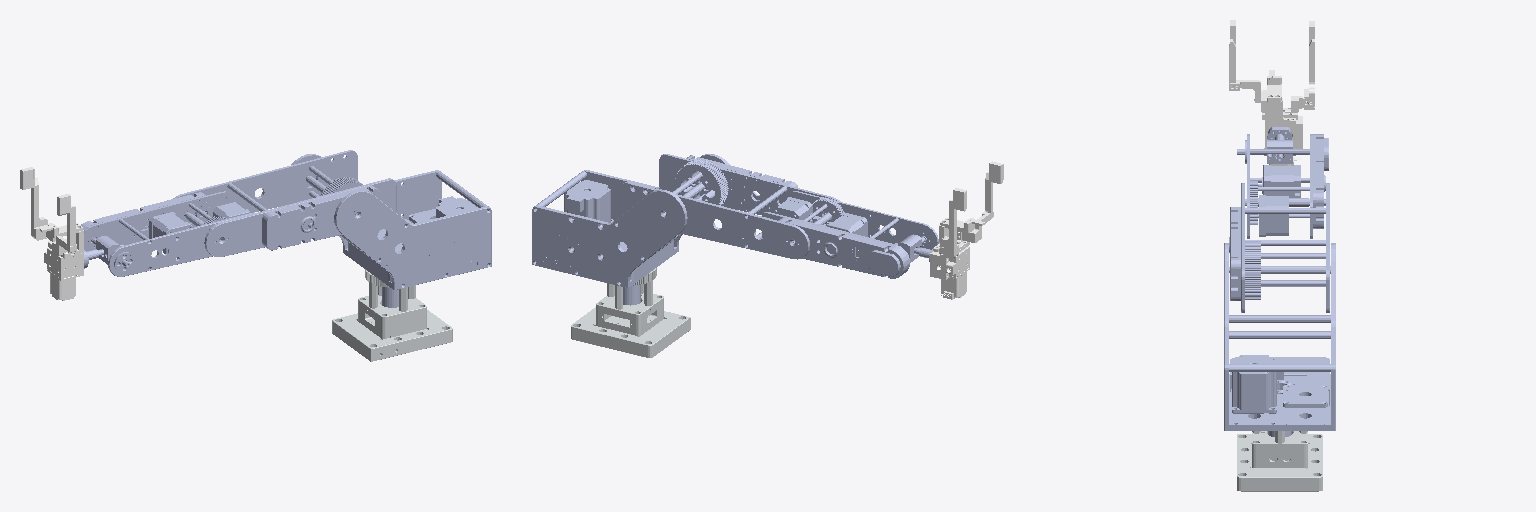
robot.urdf — dorna2-rebuild:
<?xml version="1.0" encoding="utf-8"?>
<!-- This URDF was automatically created by SolidWorks to URDF Exporter! Originally created by [author] ([email redacted]) 
     Commit Version: 1.6.0-4-g7f85cfe  Build Version: 1.6.7995.38578
     For more information, please see http://wiki.ros.org/sw_urdf_exporter -->
<robot
  name="dorna2-rebuild">
  <link
    name="arm_base">
    <inertial>
      <origin
        xyz="0.01303 -0.0011498 -0.037465"
        rpy="0 0 0" />
      <mass
        value="0.72268" />
      <inertia
        ixx="0.00075751"
        ixy="1.7307E-06"
        ixz="3.1352E-07"
        iyy="0.0010077"
        iyz="-3.2751E-07"
        izz="0.0017096" />
    </inertial>
    <visual>
      <origin
        xyz="0 0 0"
        rpy="0 0 0" />
      <geometry>
        <mesh
          filename="package://dorna2-rebuild/meshes/arm_base.STL" />
      </geometry>
      <material
        name="">
        <color
          rgba="0.89804 0.91765 0.92941 1" />
      </material>
    </visual>
    <collision>
      <origin
        xyz="0 0 0"
        rpy="0 0 0" />
      <geometry>
        <mesh
          filename="package://dorna2-rebuild/meshes/arm_base.STL" />
      </geometry>
    </collision>
  </link>
  <link
    name="arm1">
    <inertial>
      <origin
        xyz="0.0068555 0.0936 -0.031936"
        rpy="0 0 0" />
      <mass
        value="0.67527" />
      <inertia
        ixx="0.0020205"
        ixy="2.1595E-06"
        ixz="-1.2854E-05"
        iyy="0.0019142"
        iyz="-0.00044896"
        izz="0.00084524" />
    </inertial>
    <visual>
      <origin
        xyz="0 0 0"
        rpy="0 0 0" />
      <geometry>
        <mesh
          filename="package://dorna2-rebuild/meshes/arm1.STL" />
      </geometry>
      <material
        name="">
        <color
          rgba="0.79216 0.81961 0.93333 1" />
      </material>
    </visual>
    <collision>
      <origin
        xyz="0 0 0"
        rpy="0 0 0" />
      <geometry>
        <mesh
          filename="package://dorna2-rebuild/meshes/arm1.STL" />
      </geometry>
    </collision>
  </link>
  <joint
    name="arm1j"
    type="revolute">
    <origin
      xyz="0.012824 -0.0009058 0"
      rpy="1.5708 0 -1.5708" />
    <parent
      link="arm_base" />
    <child
      link="arm1" />
    <axis
      xyz="0 1 0" />
    <limit
      lower="-175"
      upper="180"
      effort="0"
      velocity="0" />
  </joint>
  <link
    name="arm2">
    <inertial>
      <origin
        xyz="0.010255 0.050968 -6.2717E-06"
        rpy="0 0 0" />
      <mass
        value="0.27168" />
      <inertia
        ixx="0.0013356"
        ixy="-1.0161E-08"
        ixz="1.0593E-11"
        iyy="0.00010987"
        iyz="-8.7967E-09"
        izz="0.0012912" />
    </inertial>
    <visual>
      <origin
        xyz="0 0 0"
        rpy="0 0 0" />
      <geometry>
        <mesh
          filename="package://dorna2-rebuild/meshes/arm2.STL" />
      </geometry>
      <material
        name="">
        <color
          rgba="0.79216 0.81961 0.93333 1" />
      </material>
    </visual>
    <collision>
      <origin
        xyz="0 0 0"
        rpy="0 0 0" />
      <geometry>
        <mesh
          filename="package://dorna2-rebuild/meshes/arm2.STL" />
      </geometry>
    </collision>
  </link>
  <joint
    name="arm2j"
    type="revolute">
    <origin
      xyz="-0.0009058 0.17761 0.095476"
      rpy="1.5708 0 0" />
    <parent
      link="arm1" />
    <child
      link="arm2" />
    <axis
      xyz="1 0 0" />
    <limit
      lower="-91"
      upper="181"
      effort="0"
      velocity="0" />
  </joint>
  <link
    name="arm3">
    <inertial>
      <origin
        xyz="-0.0024986 -5.1124E-06 0.03101"
        rpy="0 0 0" />
      <mass
        value="0.29344" />
      <inertia
        ixx="0.00057371"
        ixy="-3.2473E-09"
        ixz="2.2346E-06"
        iyy="0.00054217"
        iyz="3.7841E-09"
        izz="6.7363E-05" />
    </inertial>
    <visual>
      <origin
        xyz="0 0 0"
        rpy="0 0 0" />
      <geometry>
        <mesh
          filename="package://dorna2-rebuild/meshes/arm3.STL" />
      </geometry>
      <material
        name="">
        <color
          rgba="0.79216 0.81961 0.93333 1" />
      </material>
    </visual>
    <collision>
      <origin
        xyz="0 0 0"
        rpy="0 0 0" />
      <geometry>
        <mesh
          filename="package://dorna2-rebuild/meshes/arm3.STL" />
      </geometry>
    </collision>
  </link>
  <joint
    name="arm3j"
    type="revolute">
    <origin
      xyz="0 0.2032 0"
      rpy="-1.5708 0 0" />
    <parent
      link="arm2" />
    <child
      link="arm3" />
    <axis
      xyz="1 0 0" />
    <limit
      lower="-142"
      upper="142"
      effort="0"
      velocity="0" />
  </joint>
  <link
    name="wrist1">
    <inertial>
      <origin
        xyz="4.6381E-05 5.5335E-07 3.3649E-05"
        rpy="0 0 0" />
      <mass
        value="0.019467" />
      <inertia
        ixx="1.9403E-06"
        ixy="-2.605E-12"
        ixz="3.7253E-11"
        iyy="5.5184E-06"
        iyz="1.4992E-08"
        izz="6.4217E-06" />
    </inertial>
    <visual>
      <origin
        xyz="0 0 0"
        rpy="0 0 0" />
      <geometry>
        <mesh
          filename="package://dorna2-rebuild/meshes/wrist1.STL" />
      </geometry>
      <material
        name="">
        <color
          rgba="0.79216 0.81961 0.93333 1" />
      </material>
    </visual>
    <collision>
      <origin
        xyz="0 0 0"
        rpy="0 0 0" />
      <geometry>
        <mesh
          filename="package://dorna2-rebuild/meshes/wrist1.STL" />
      </geometry>
    </collision>
  </link>
  <joint
    name="wrist1j"
    type="revolute">
    <origin
      xyz="0.0010033 0 0.1524"
      rpy="0.016592 0 3.1416" />
    <parent
      link="arm3" />
    <child
      link="wrist1" />
    <axis
      xyz="1 0 0" />
    <limit
      lower="-135"
      upper="135"
      effort="0"
      velocity="0" />
  </joint>
  <link
    name="wrist2">
    <inertial>
      <origin
        xyz="1.2629E-08 0.0011325 0.03437"
        rpy="0 0 0" />
      <mass
        value="0.010769" />
      <inertia
        ixx="3.7831E-06"
        ixy="-6.8983E-13"
        ixz="-2.0905E-12"
        iyy="3.859E-06"
        iyz="-1.1375E-07"
        izz="8.956E-07" />
    </inertial>
    <visual>
      <origin
        xyz="0 0 0"
        rpy="0 0 0" />
      <geometry>
        <mesh
          filename="package://dorna2-rebuild/meshes/wrist2.STL" />
      </geometry>
      <material
        name="">
        <color
          rgba="0.79216 0.81961 0.93333 1" />
      </material>
    </visual>
    <collision>
      <origin
        xyz="0 0 0"
        rpy="0 0 0" />
      <geometry>
        <mesh
          filename="package://dorna2-rebuild/meshes/wrist2.STL" />
      </geometry>
    </collision>
  </link>
  <joint
    name="wrist2j"
    type="revolute">
    <origin
      xyz="0 0 0"
      rpy="0 0 0" />
    <parent
      link="wrist1" />
    <child
      link="wrist2" />
    <axis
      xyz="0 0.016592 0.99986" />
    <limit
      lower="-360"
      upper="360"
      effort="0"
      velocity="0" />
  </joint>
  <link
    name="gripper">
    <inertial>
      <origin
        xyz="-0.018875 0.098371 -0.44044"
        rpy="0 0 0" />
      <mass
        value="2.9259" />
      <inertia
        ixx="0.12091"
        ixy="0.00011856"
        ixz="-0.0016103"
        iyy="0.10184"
        iyz="0.027925"
        izz="0.027587" />
    </inertial>
    <visual>
      <origin
        xyz="0 0 0"
        rpy="0 0 0" />
      <geometry>
        <mesh
          filename="package://dorna2-rebuild/meshes/gripper.STL" />
      </geometry>
      <material
        name="">
        <color
          rgba="1 1 1 1" />
      </material>
    </visual>
    <collision>
      <origin
        xyz="0 0 0"
        rpy="0 0 0" />
      <geometry>
        <mesh
          filename="package://dorna2-rebuild/meshes/gripper.STL" />
      </geometry>
    </collision>
  </link>
  <joint
    name="gripper-j"
    type="fixed">
    <origin
      xyz="0.019031 -0.015038 0.086123"
      rpy="-0.016592 3.1072E-05 0.0018725" />
    <parent
      link="wrist2" />
    <child
      link="gripper" />
    <axis
      xyz="0 0 0" />
  </joint>
</robot>

--- What the picture shows (computed from the rendered views, not written in the file) ---
The picture shows the robot from 3 angles, left to right: view 1: azimuth 30°, elevation 25°; view 2: azimuth 150°, elevation 25°; view 3: azimuth 270°, elevation 25°; orthographic projection.
Model dorna2-rebuild with 7 links and 6 joints (5 revolute, 1 fixed), rooted at arm_base, posed all joints at 0.
Links seen in each view (by area): view 1: arm1, arm2, arm3, arm_base, gripper; view 2: arm1, arm2, arm3, arm_base, gripper; view 3: arm1, arm2, arm3, arm_base, gripper, wrist1.
Link boxes in pixels (x1=…): arm1: x1=291, y1=154, x2=491, y2=307; arm2: x1=173, y1=150, x2=396, y2=256; arm3: x1=81, y1=191, x2=254, y2=276; arm_base: x1=332, y1=269, x2=452, y2=361; gripper: x1=20, y1=167, x2=83, y2=300; arm1: x1=532, y1=154, x2=729, y2=305; arm2: x1=621, y1=154, x2=840, y2=259; arm3: x1=762, y1=191, x2=938, y2=278; arm_base: x1=571, y1=268, x2=690, y2=357; gripper: x1=930, y1=161, x2=1003, y2=299; arm1: x1=1224, y1=243, x2=1335, y2=436; arm2: x1=1229, y1=183, x2=1330, y2=312; arm3: x1=1245, y1=134, x2=1328, y2=238; arm_base: x1=1237, y1=431, x2=1322, y2=491; gripper: x1=1229, y1=20, x2=1314, y2=165; wrist1: x1=1237, y1=140, x2=1309, y2=163.
Bounding box of the posed robot: 0.6811 × 0.1422 × 0.3684 m (x, y, z).
Meshes: 7 distinct files referenced, 7 mesh visuals loaded (7 binary STL).